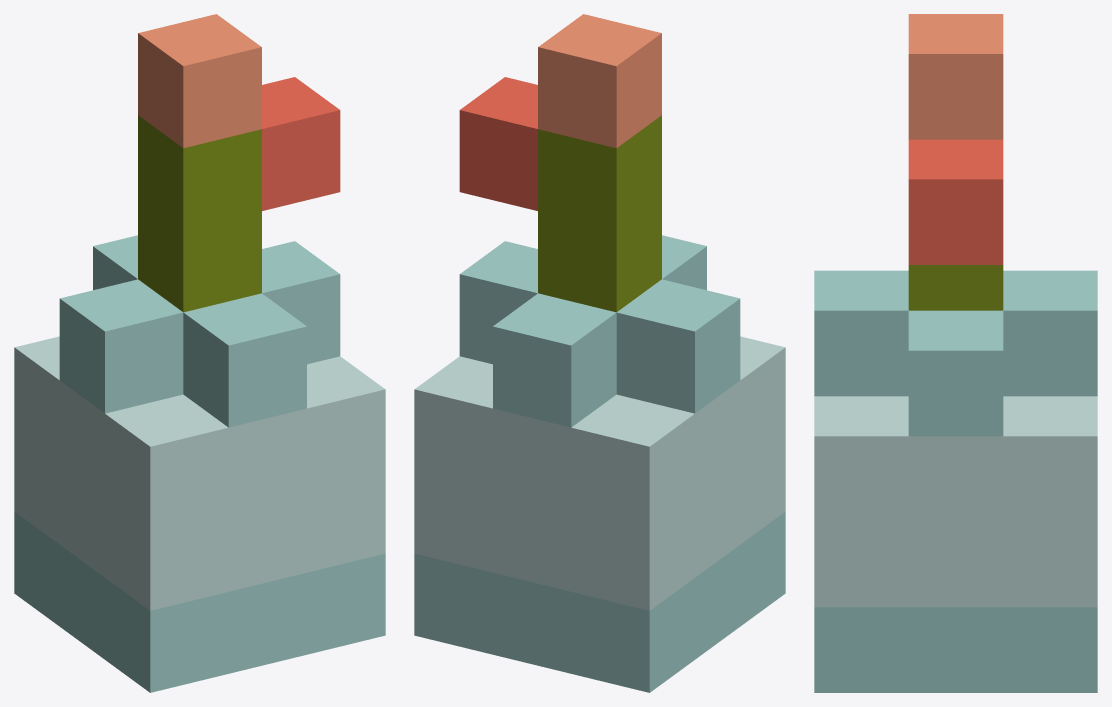
Rendered from Interior_Furniture_Misc_Plant_06.obj.
3 renders of one model, left to right at view 1: azimuth 30°, elevation 25°; view 2: azimuth 150°, elevation 25°; view 3: azimuth 270°, elevation 25°, orthographic. The views are drawn at different scales.
Size of the model in its own units: 0.3 by 0.7 by 0.3.
Materials: 1 (1 with a texture image).
